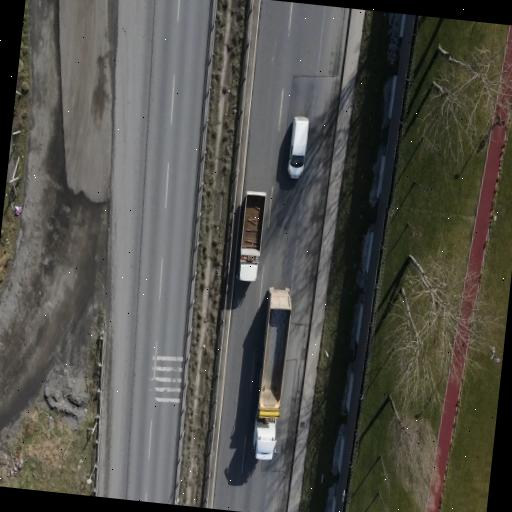UAI: (254, 287, 291, 459), (239, 191, 266, 280)
harvester: (288, 116, 309, 177)
